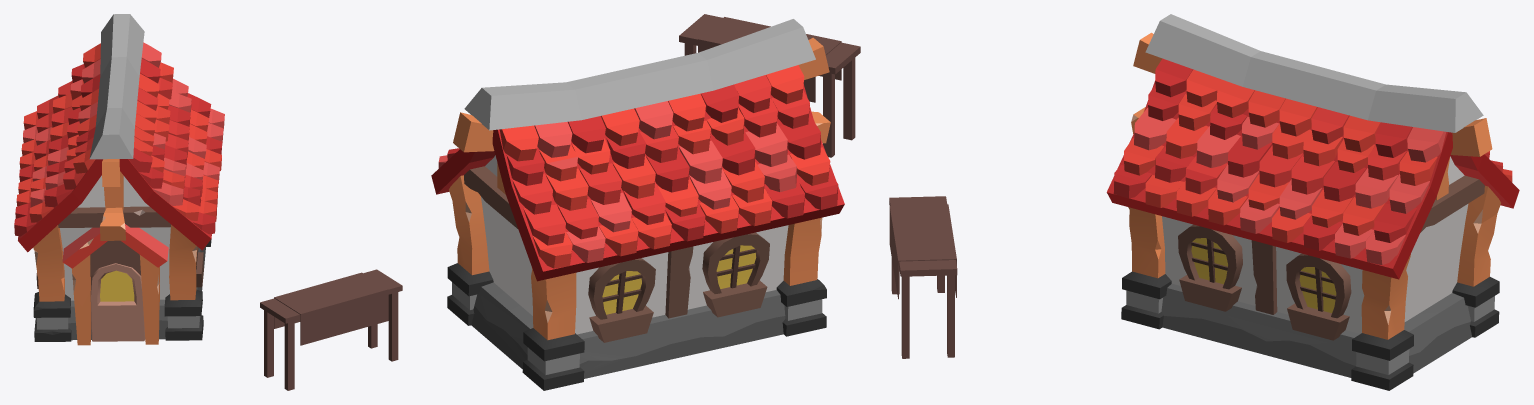
The model's file is mypage.glb.
The picture shows the model from 3 angles, left to right: view 1: azimuth 30°, elevation 25°; view 2: azimuth 150°, elevation 25°; view 3: azimuth 270°, elevation 25°; orthographic projection. The views are drawn at different scales.
Visible parts, largest first — view 1: Table_01_LOD2; view 2: Table_01_LOD2; view 3: Table_01_LOD2.
Boxes of the visible parts, box(x1,y1,x2,y2) form: Table_01_LOD2: box(14, 14, 402, 390); Table_01_LOD2: box(431, 14, 860, 390); Table_01_LOD2: box(889, 14, 1519, 390).
Bounding box in the file's own units: 5.02 × 3.84 × 8.29.
Materials: 2 (2 with a texture image).
